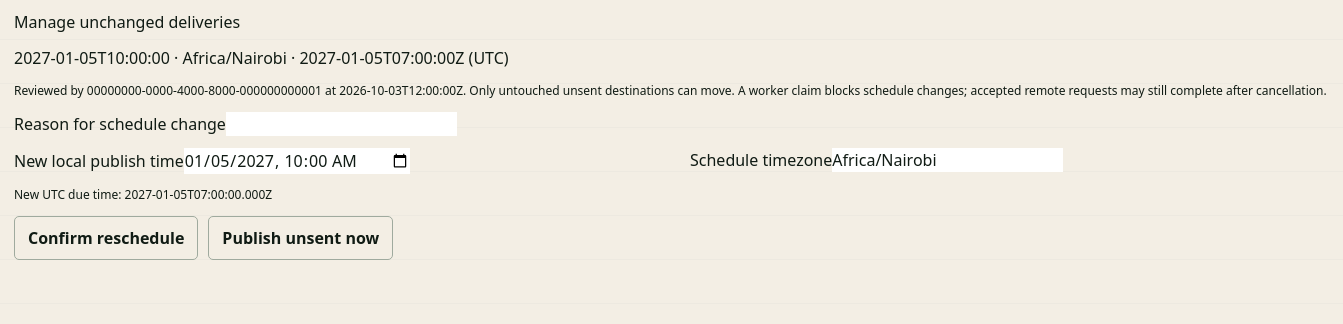
publish-now receipt resets old future inputs to the accepted UTC schedule
Type "Advance reviewed delivery" into the field labelled "Reason for schedule change" at (341, 124), box [226,112,457,136]
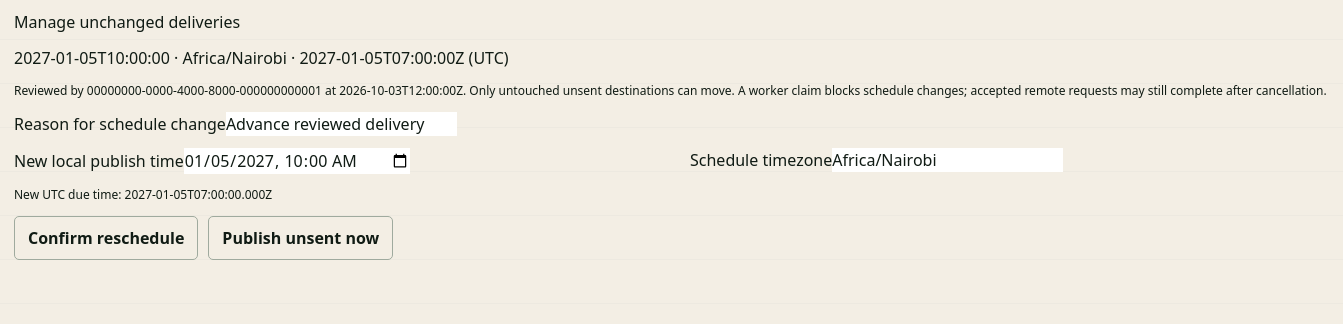
Click the button "Publish unsent now" at (301, 238), box [208,216,393,260]
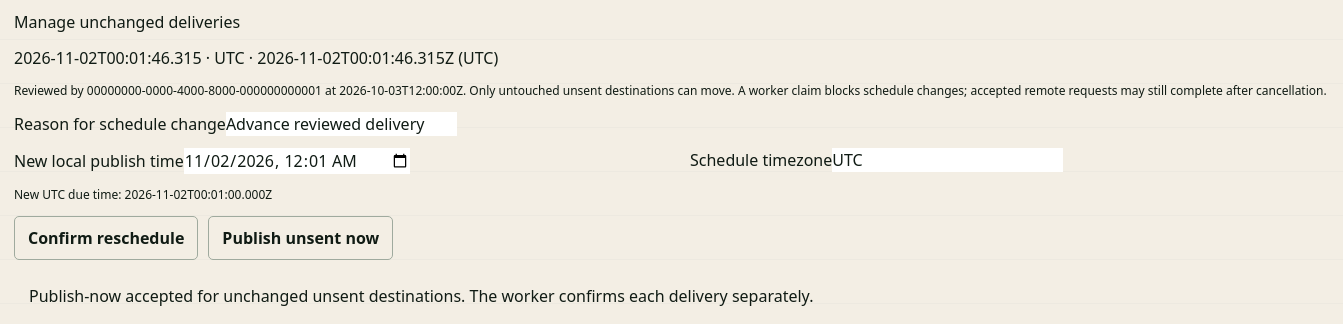
Check: the button "Confirm reschedule" is disabled, box [14,216,198,260]
Check: the text "Publish-now accepted for unchanged unsent destinations" is shown, box [29,285,813,307]
Check: the field labelled "Schedule timezone" holds "UTC", box [832,148,1063,172]
